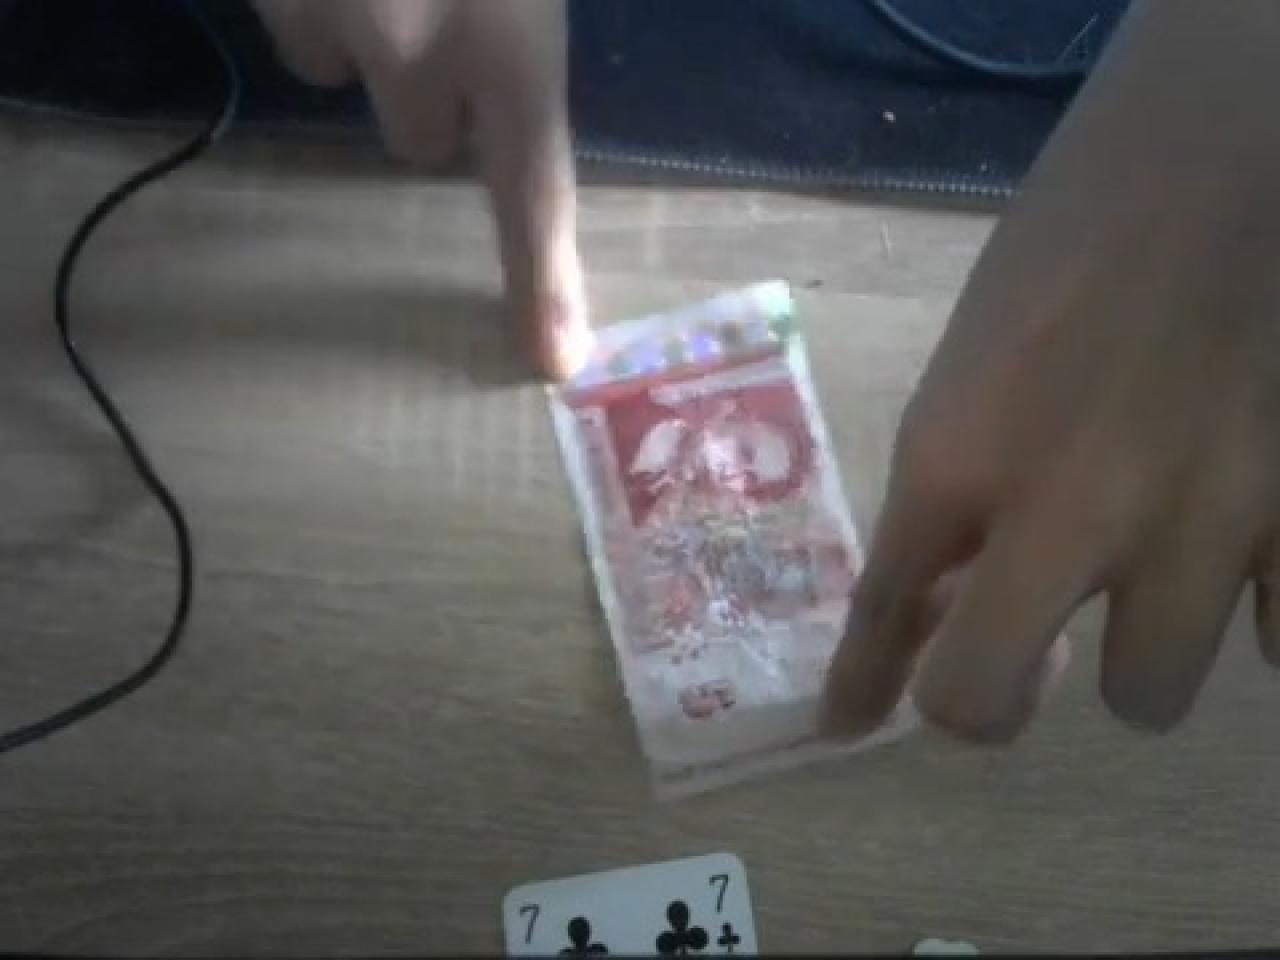5leva: (549, 282, 867, 806)
